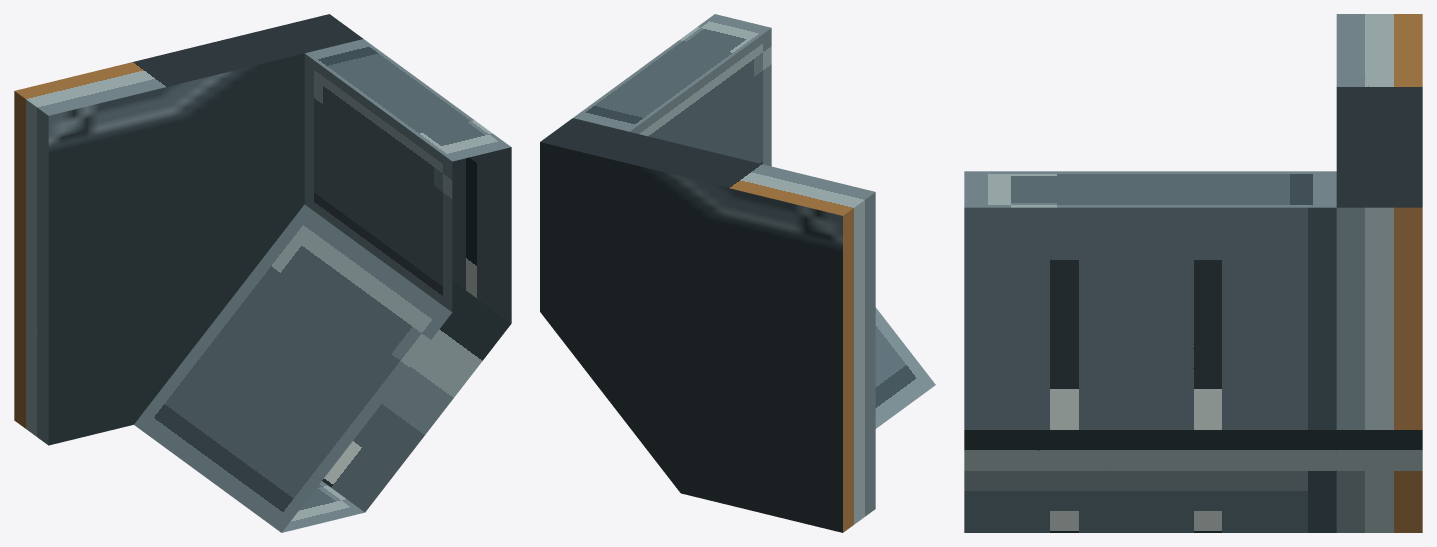
The model's file is casing_d5_front_x2_y-1.obj.
3 views of the same model, side by side, from view 1: azimuth 30°, elevation 25°; view 2: azimuth 150°, elevation 25°; view 3: azimuth 270°, elevation 25° (orthographic). The views are drawn at different scales.
Visible parts, largest first — view 1: d5_front_x2_y-1; view 2: d5_front_x2_y-1; view 3: d5_front_x2_y-1.
Part boxes in pixels (x1=…): d5_front_x2_y-1: x1=14, y1=14, x2=511, y2=532; d5_front_x2_y-1: x1=540, y1=14, x2=935, y2=532; d5_front_x2_y-1: x1=964, y1=14, x2=1422, y2=532.
Bounding box in the file's own units: 1 × 1 × 1.
